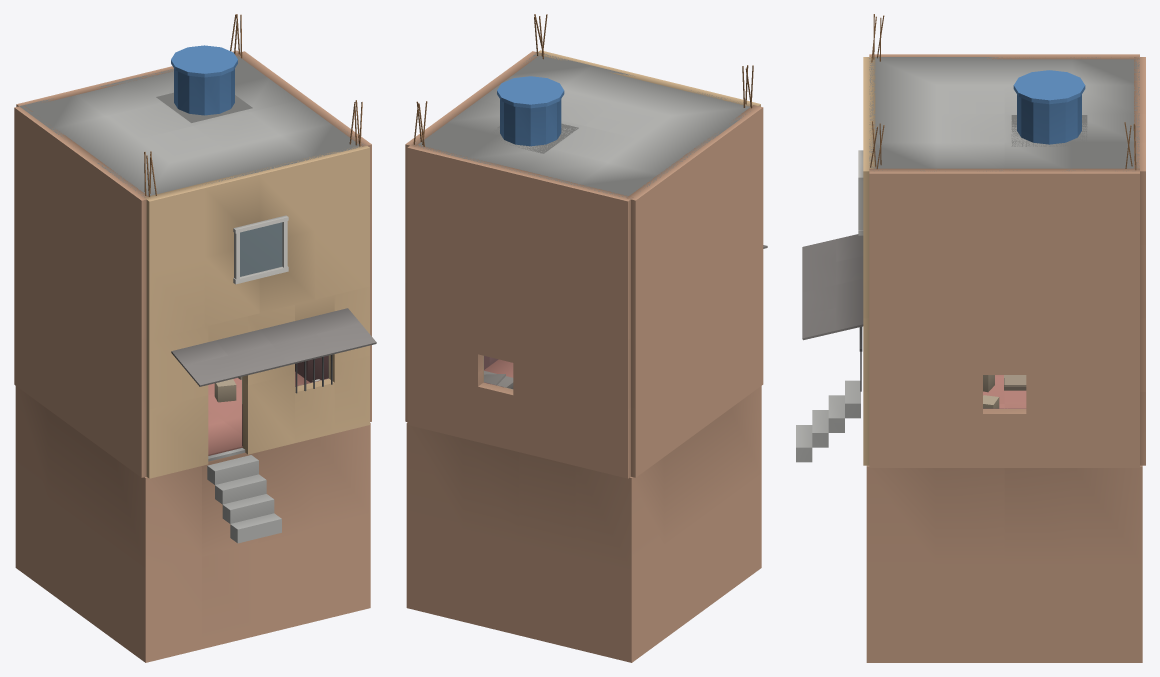
Rendered from barraco_6.glb.
3 views of the same model, side by side, from view 1: azimuth 30°, elevation 25°; view 2: azimuth 150°, elevation 25°; view 3: azimuth 270°, elevation 25° (orthographic). The views are drawn at different scales.
Visible parts, largest first — view 1: ext, longe, detalhe, dentro; view 2: ext, longe, detalhe; view 3: ext, longe, detalhe, dentro.
Part boxes in pixels (x1,y1,x2,y2): ext: [14, 50, 371, 478]; longe: [15, 55, 370, 662]; detalhe: [144, 14, 376, 543]; dentro: [208, 355, 329, 461]; ext: [405, 50, 763, 478]; longe: [406, 52, 761, 662]; detalhe: [413, 14, 767, 248]; ext: [863, 54, 1145, 467]; longe: [866, 57, 1142, 662]; detalhe: [796, 14, 1136, 462]; dentro: [983, 375, 1026, 408].
Size of what is drawn, in the model's own units: 5.22 by 10.93 by 6.46.
